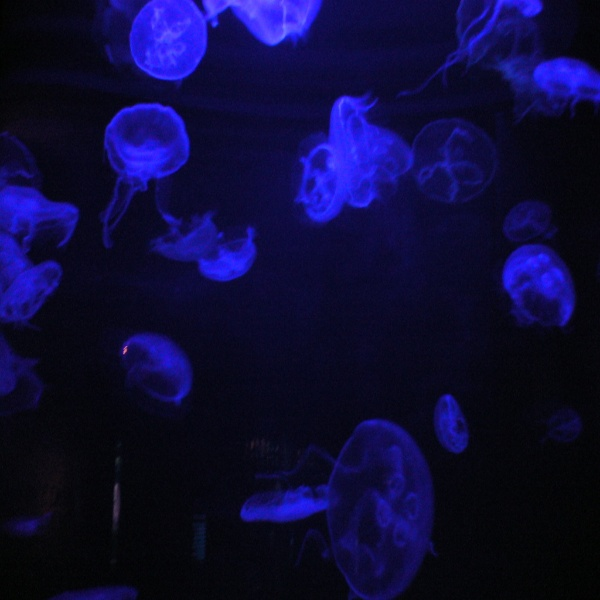Jellyfish: (326, 416, 434, 597), (97, 101, 190, 245), (425, 0, 541, 88), (329, 93, 415, 209), (412, 117, 499, 208), (126, 0, 224, 77), (502, 241, 577, 330), (121, 332, 192, 411), (0, 181, 79, 251), (0, 231, 59, 322), (155, 183, 221, 262), (222, 0, 323, 49), (294, 138, 348, 222), (531, 54, 599, 116), (242, 484, 336, 527), (197, 228, 254, 281), (427, 395, 473, 456)
